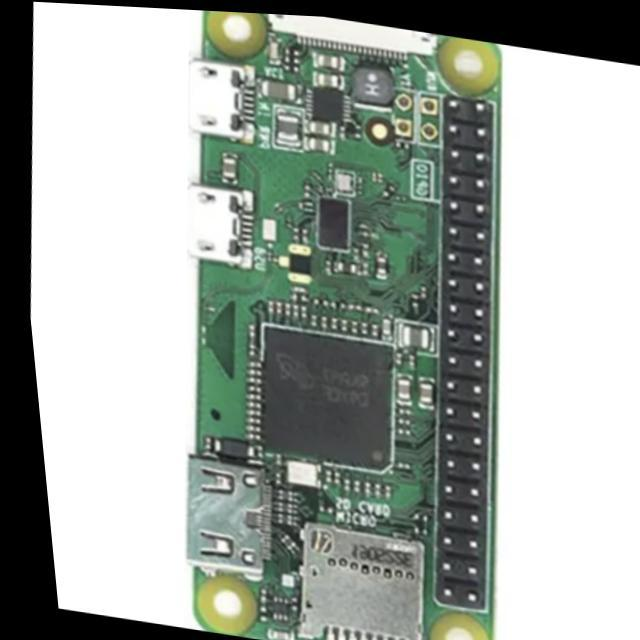Raspberry-Pi-Zero-WH: (186, 12, 500, 640)
